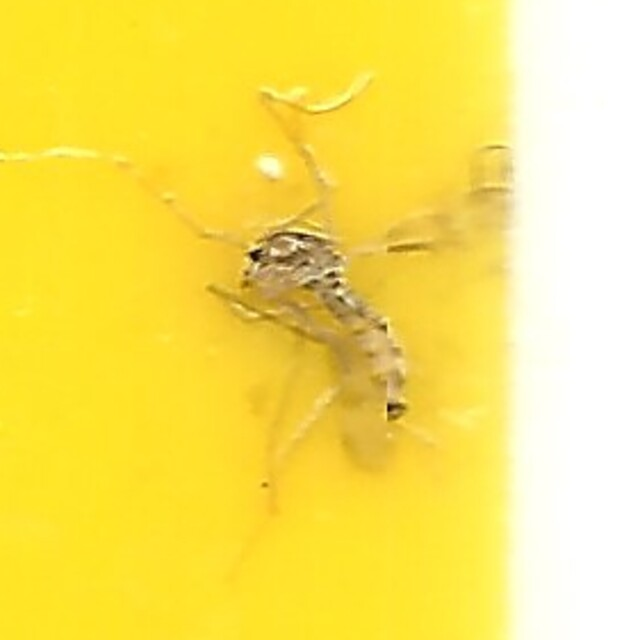Nematocera: (228, 215, 412, 425)
